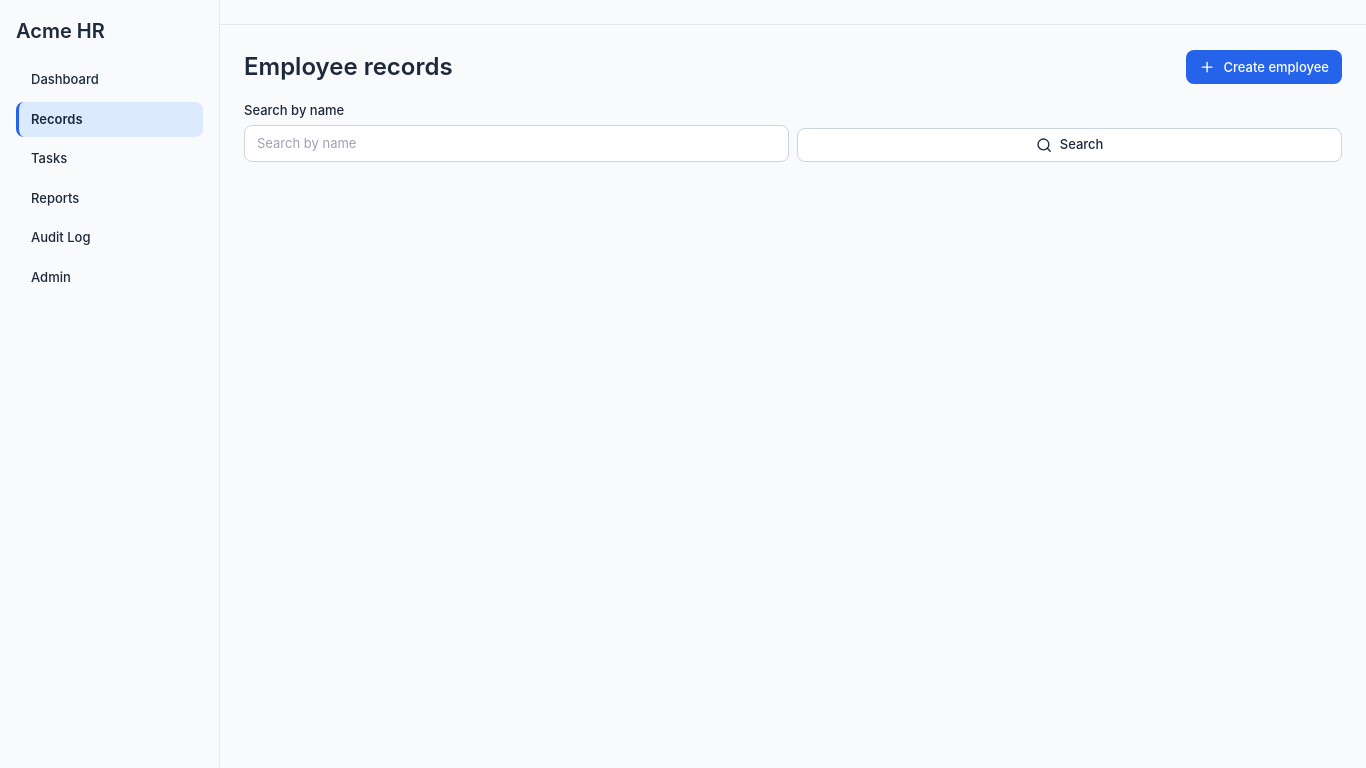
Test: EmployeesPage › shows a busy state while searching
Step 1. Type "Priya" into the search field labelled "Search by name" → point(516, 143), box [244,124,789,162]
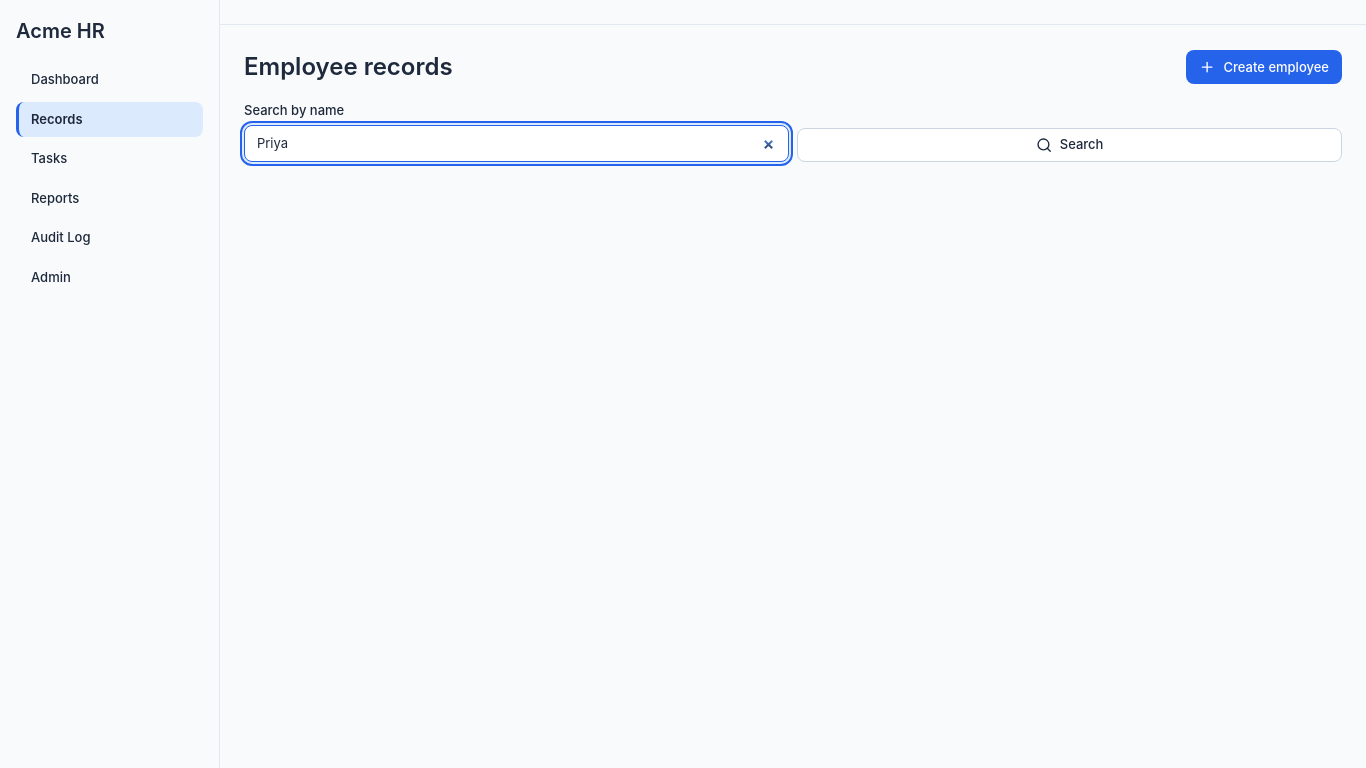
Step 2. Click the button "Search" → point(1070, 145), box [797,128,1342,162]
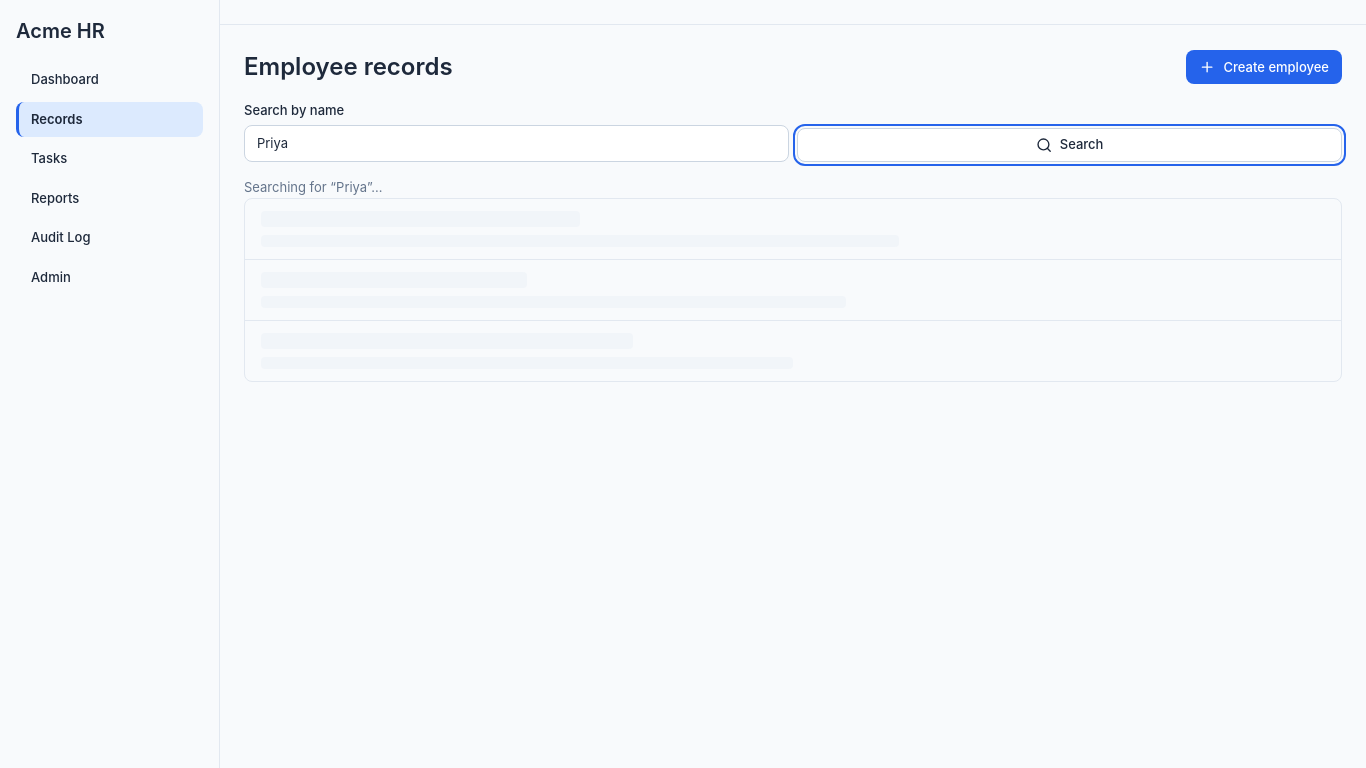
Check: the element showing "Searching for “Priya”…" is shown, box [244,178,1342,382]
